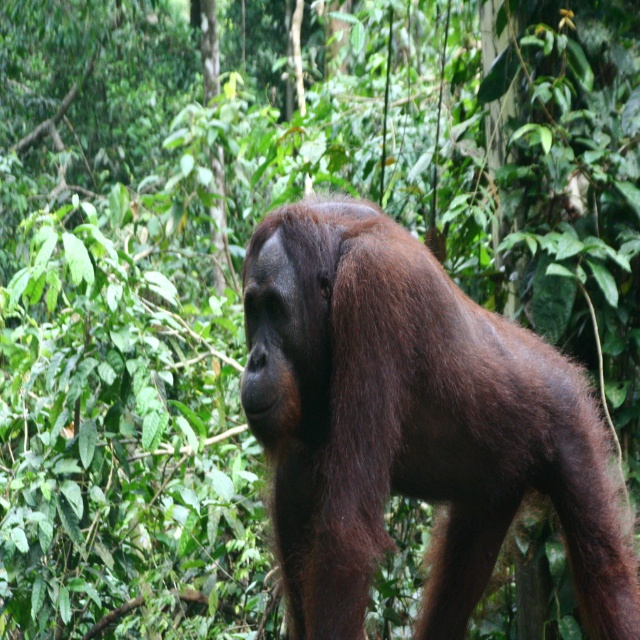Monkey: (240, 185, 640, 640)
